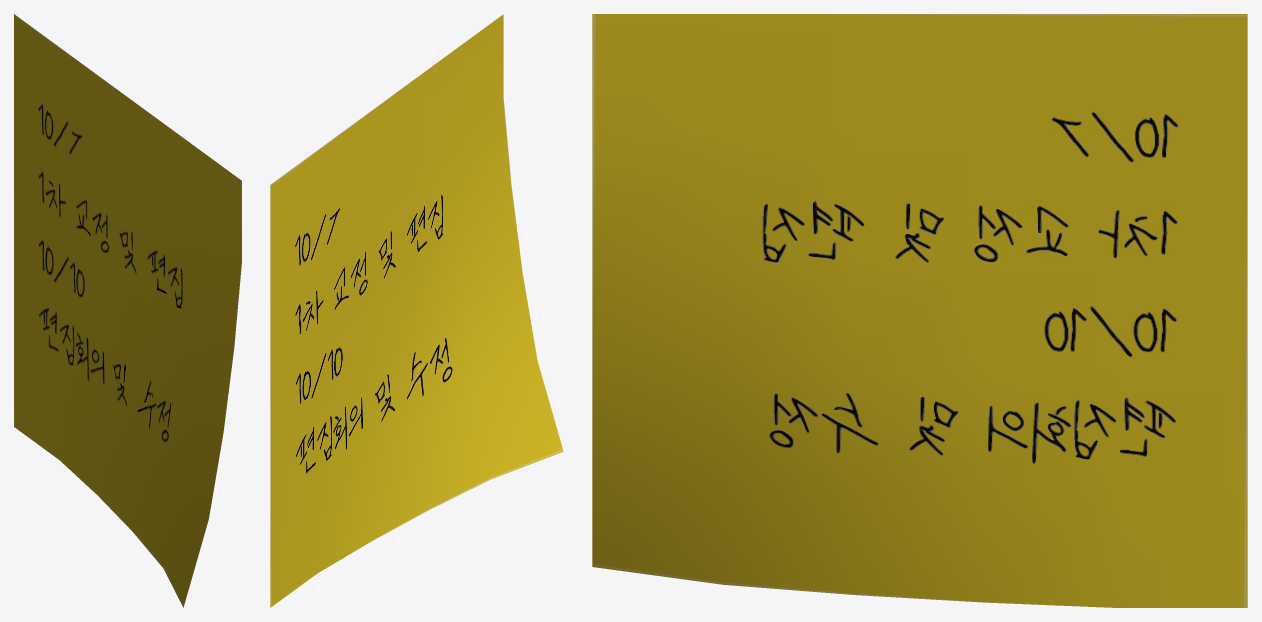
File: memo3.fbx
3 renders of one model, left to right at view 1: azimuth 30°, elevation 25°; view 2: azimuth 150°, elevation 25°; view 3: azimuth 270°, elevation 25°, orthographic. The views are drawn at different scales.
Visible parts, largest first — view 1: memo8; view 2: memo8; view 3: memo8.
Boxes of the visible parts, bbox=[...] form: memo8: bbox=[14, 14, 241, 607]; memo8: bbox=[270, 14, 563, 607]; memo8: bbox=[592, 14, 1247, 607].
Size of the model in its own units: 0.000723 by 0.00488 by 0.00488.
Materials: 1 (1 with a texture image).
